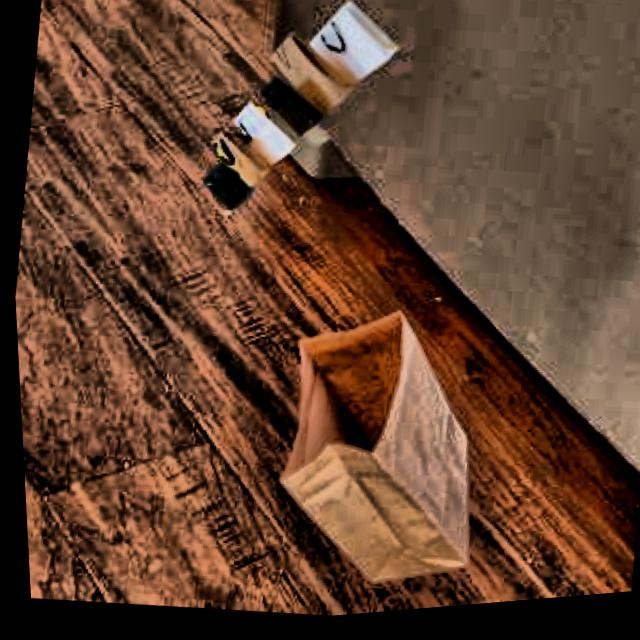Paper-bag: (243, 283, 526, 615), (158, 0, 423, 268)
